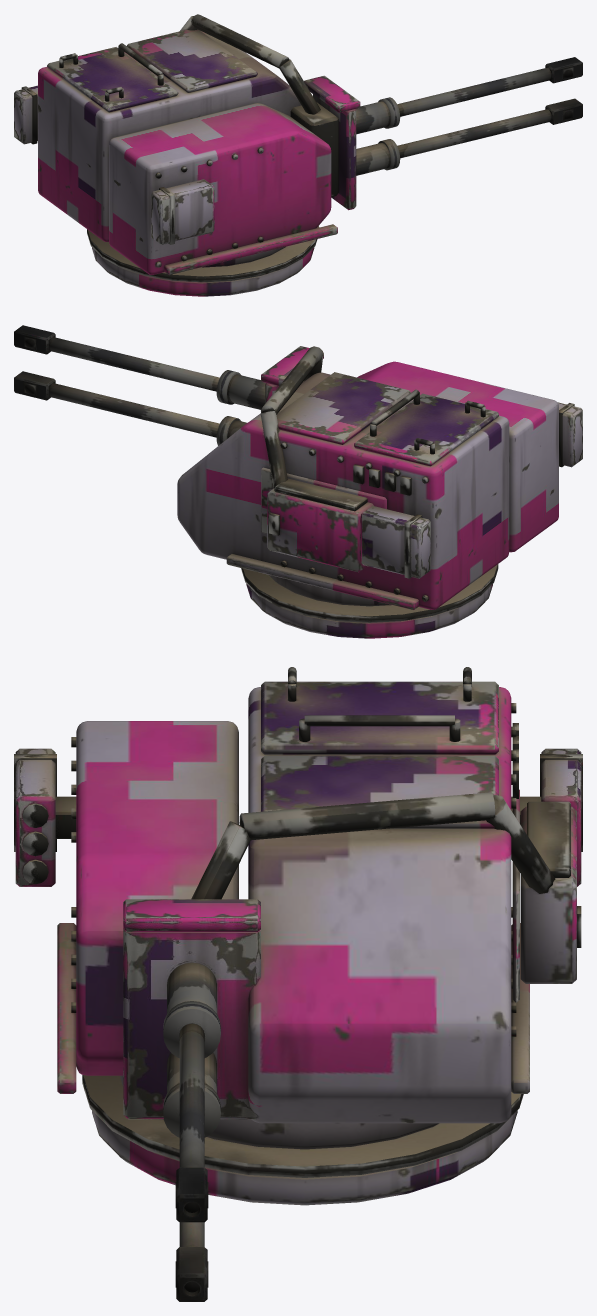
File: turret_grach_t2_pixel.glb
3 renders of one model, top to bottom at view 1: azimuth 30°, elevation 25°; view 2: azimuth 150°, elevation 25°; view 3: azimuth 270°, elevation 25°, orthographic. The views are drawn at different scales.
Parts seen in each view (by area): view 1: turret_light_t2, guns, pods; view 2: turret_light_t2, guns, pods; view 3: turret_light_t2, guns, pods.
Boxes of the visible parts, <box> form: turret_light_t2: <box>38,14,337,296</box>; guns: <box>290,57,582,210</box>; pods: <box>14,85,214,244</box>; turret_light_t2: <box>177,346,558,638</box>; guns: <box>14,325,323,445</box>; pods: <box>360,402,582,578</box>; turret_light_t2: <box>57,667,581,1205</box>; guns: <box>123,899,260,1301</box>; pods: <box>14,748,582,886</box>.
Bounding box in the file's own units: 1.64 × 0.6416 × 0.9088.
Materials: 3 (3 with a texture image).
